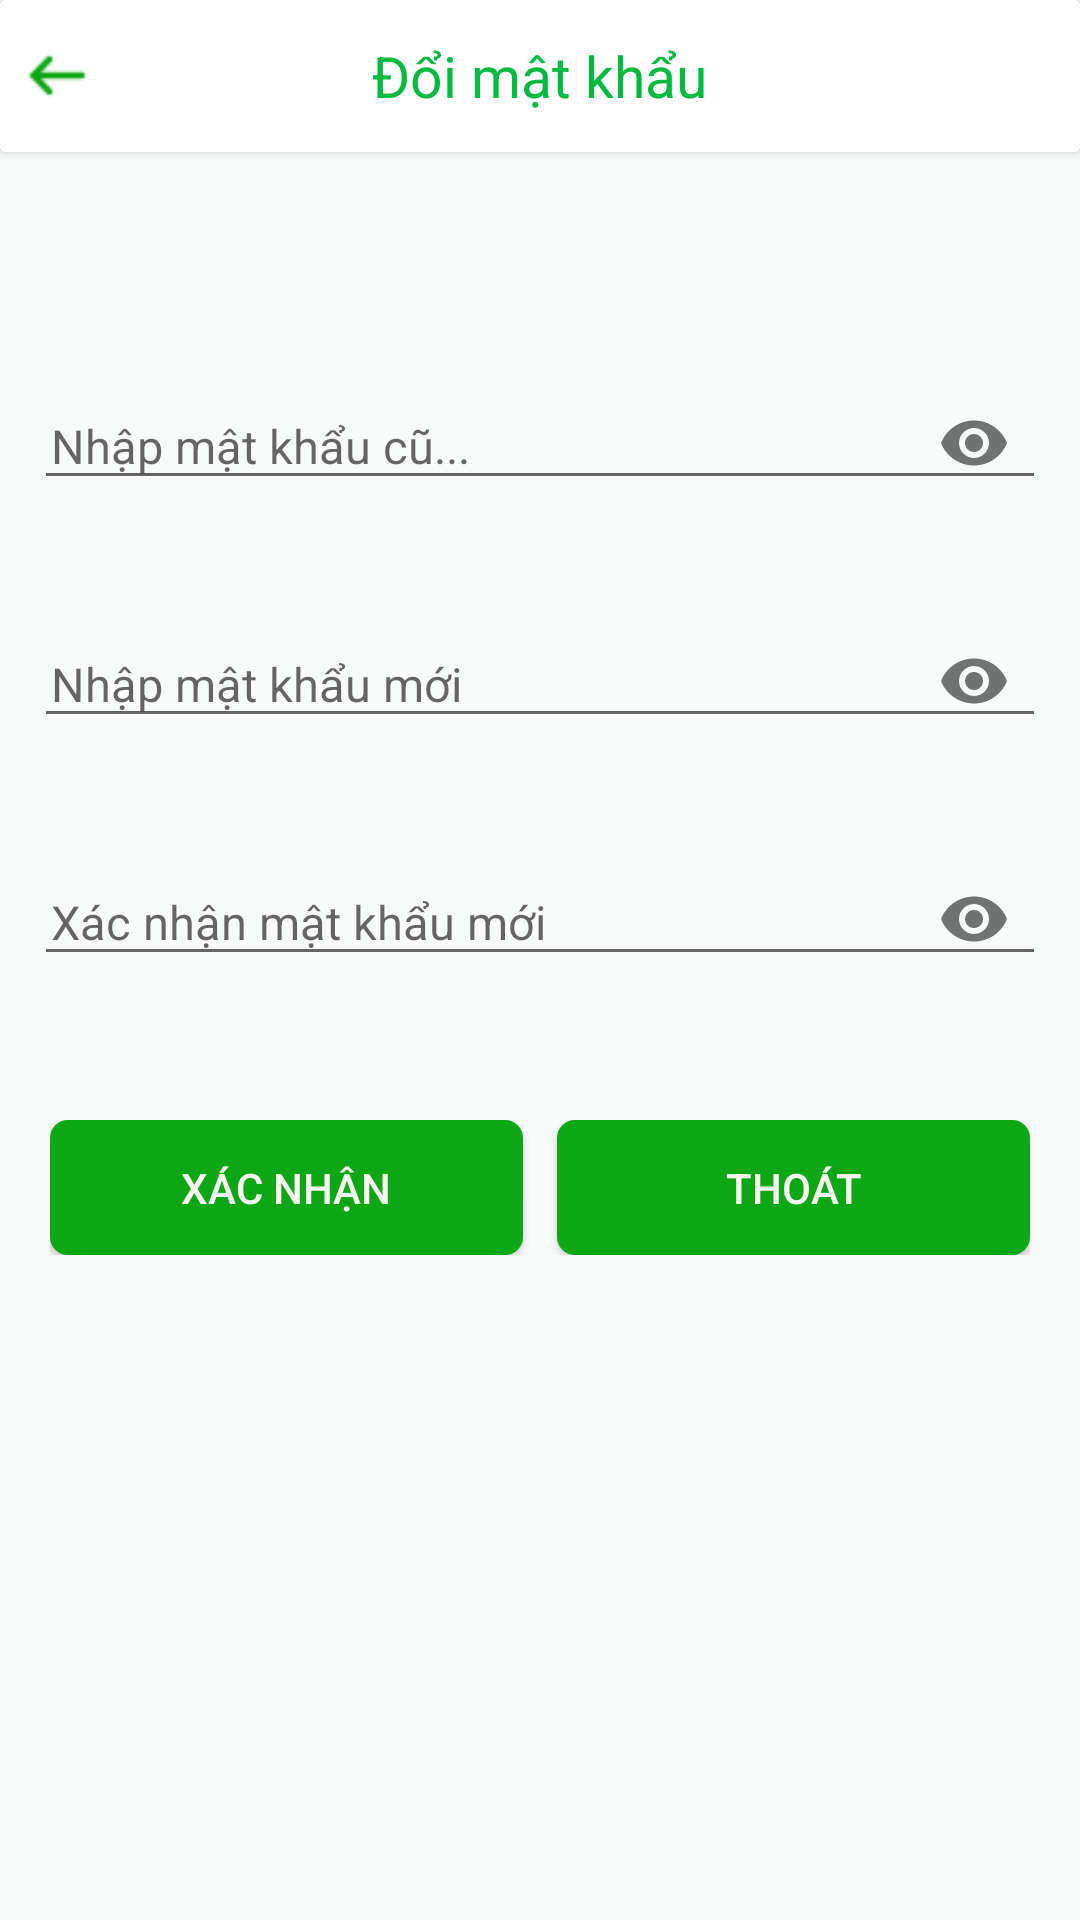

Where to tap for icons on this 1080 × 1920 app screen, as [x,y]:
back: [57,75]
